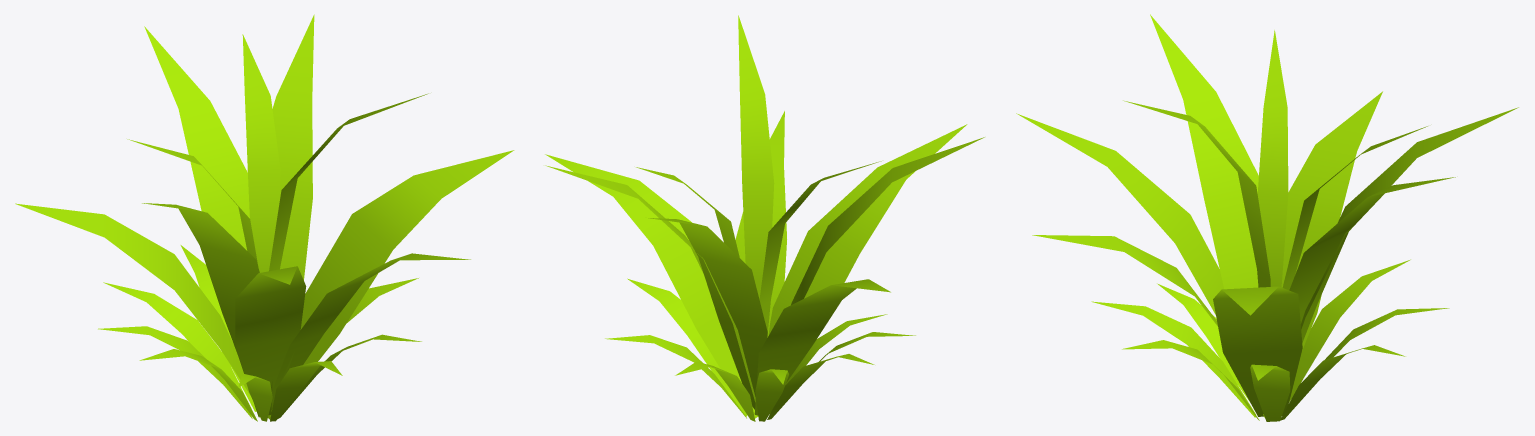
Rendered from grass.fbx.
3 views of the same model, side by side, from view 1: azimuth 30°, elevation 25°; view 2: azimuth 150°, elevation 25°; view 3: azimuth 270°, elevation 25° (orthographic). The views are drawn at different scales.
Visible parts, largest first — view 1: Grass; view 2: Grass; view 3: Grass.
Boxes of the visible parts, left/top/right/bottom form: Grass: left=15, top=14, right=514, bottom=421; Grass: left=545, top=15, right=984, bottom=421; Grass: left=1016, top=14, right=1518, bottom=421.
Size of the model in its own units: 47.95 by 37.24 by 46.79.
